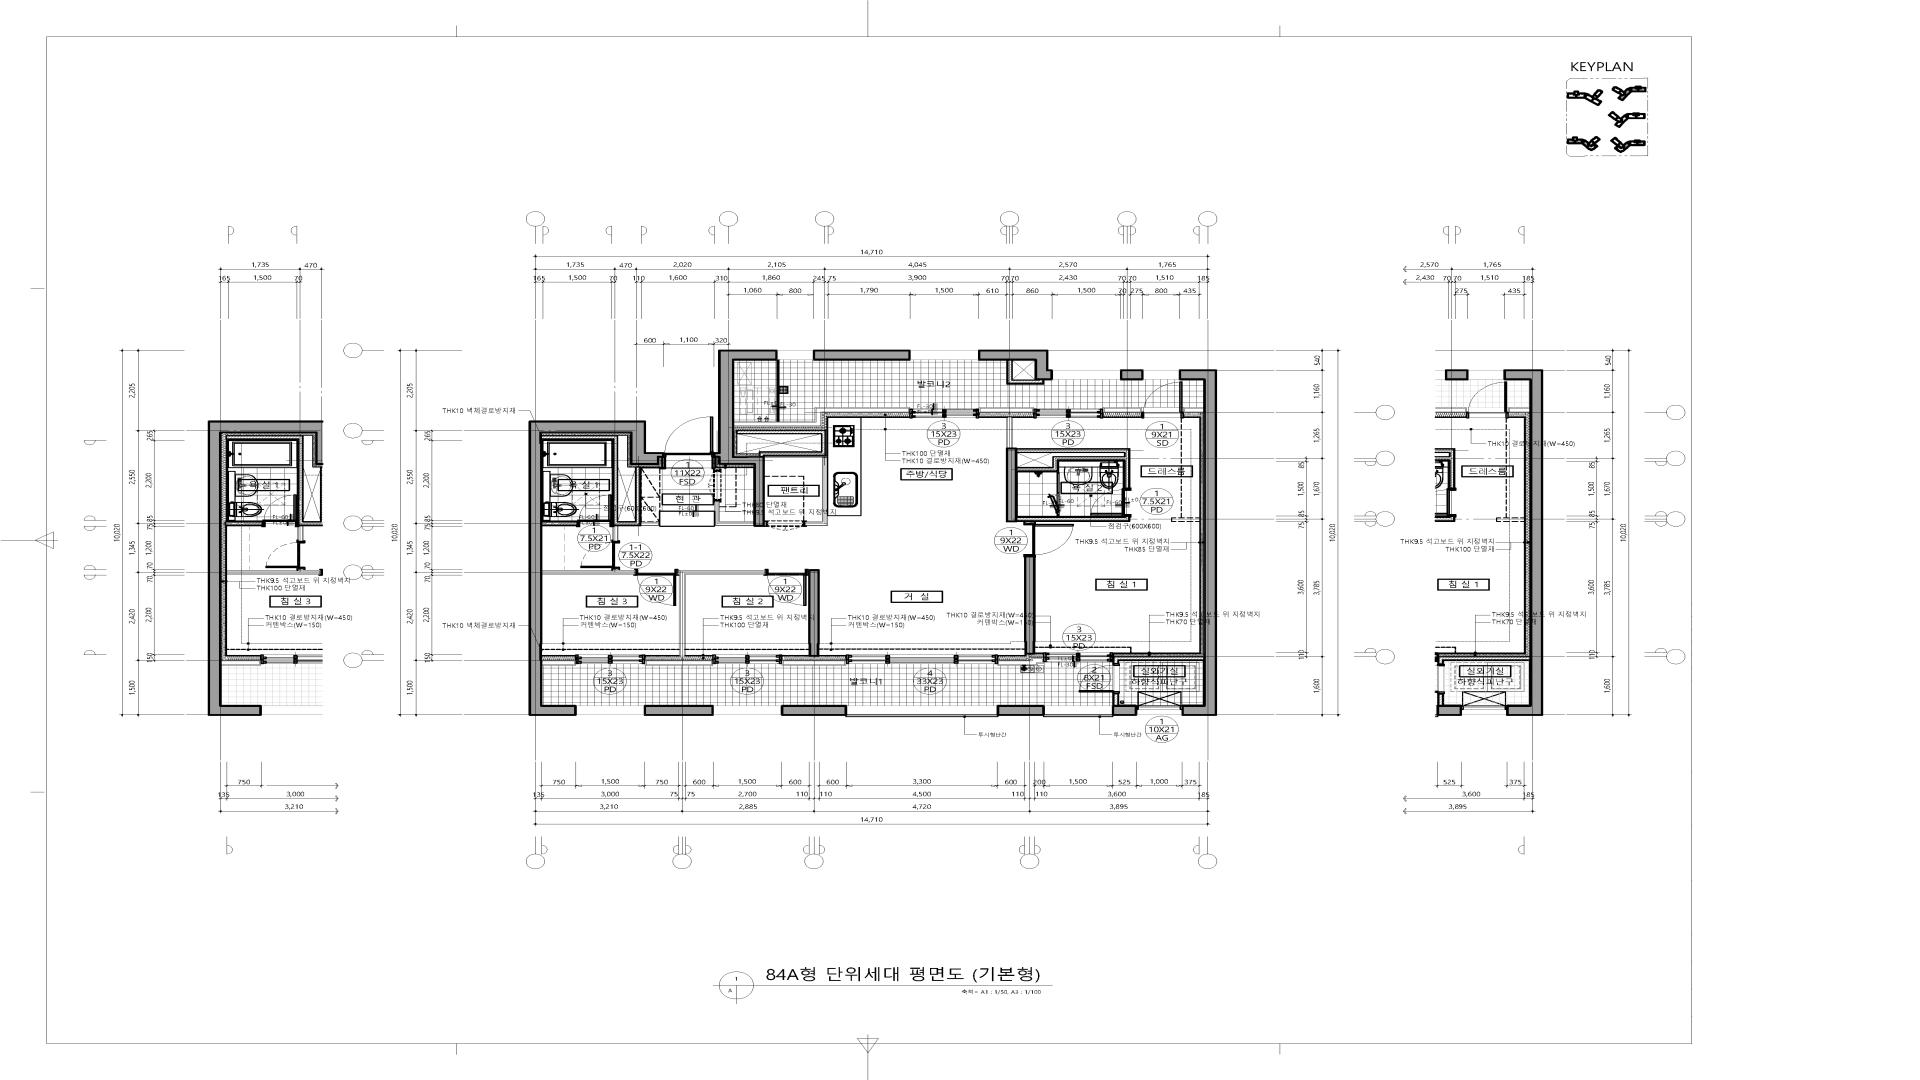door: (664, 416, 714, 469), (1023, 522, 1074, 557), (635, 569, 679, 606), (765, 569, 809, 606), (1142, 381, 1183, 419), (1090, 488, 1132, 516), (580, 541, 620, 570), (577, 494, 612, 527), (765, 520, 805, 531)
wall: (528, 420, 664, 716), (1179, 369, 1217, 716), (542, 435, 659, 541), (714, 350, 778, 527), (736, 430, 828, 526), (679, 570, 765, 656), (1017, 448, 1130, 488), (734, 407, 910, 427), (978, 350, 1053, 379), (1024, 557, 1036, 653), (813, 350, 911, 361), (808, 569, 820, 655), (714, 501, 753, 526), (1006, 361, 1045, 385), (1006, 447, 1017, 522), (644, 705, 714, 716), (781, 705, 847, 716), (1017, 516, 1130, 522), (1112, 656, 1203, 663), (997, 705, 1045, 716), (645, 660, 713, 666), (782, 660, 846, 666), (542, 570, 635, 574), (998, 658, 1044, 666), (979, 407, 1034, 413), (1112, 705, 1137, 716), (1120, 369, 1144, 380), (1103, 407, 1142, 413), (542, 520, 577, 526), (542, 660, 575, 666), (1007, 417, 1012, 447), (1184, 407, 1203, 413), (1112, 693, 1119, 705), (715, 468, 719, 470)
window: (847, 706, 997, 717), (846, 654, 998, 664), (1045, 706, 1112, 717), (575, 654, 645, 664), (713, 654, 782, 664), (910, 409, 979, 419), (1034, 409, 1103, 419), (1044, 652, 1112, 662), (911, 351, 978, 360), (1053, 370, 1120, 379), (577, 706, 644, 715), (714, 706, 781, 715), (1137, 705, 1182, 715), (778, 351, 813, 360), (1144, 370, 1179, 379)
